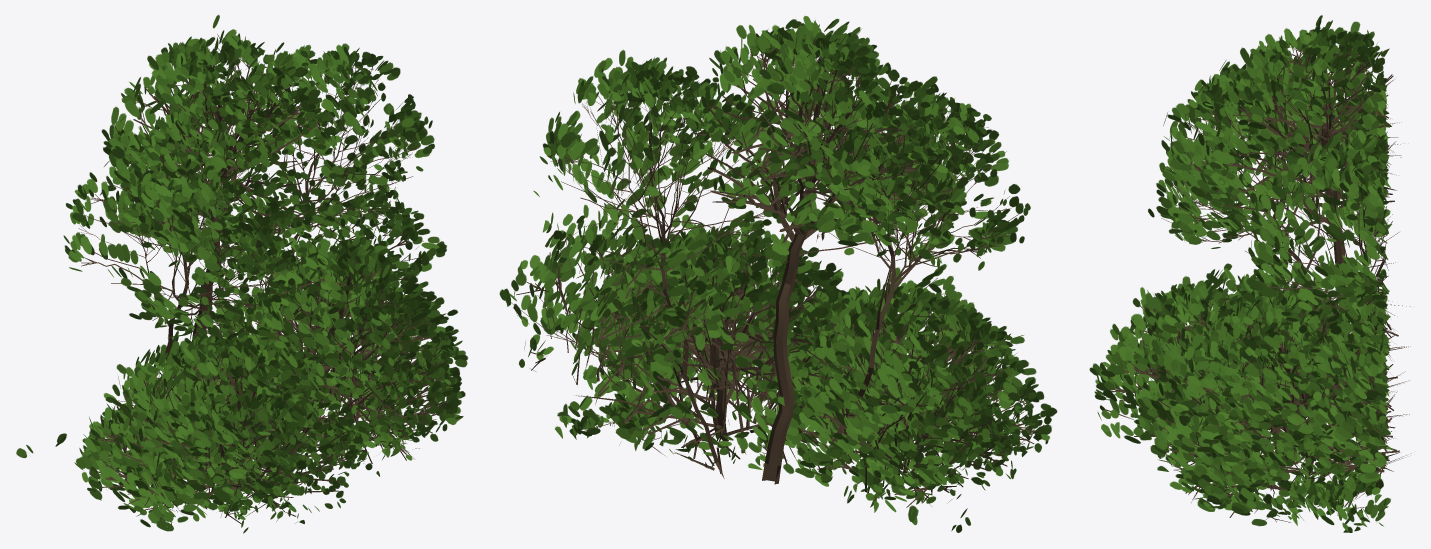
The picture shows the model from 3 angles, left to right: view 1: azimuth 30°, elevation 25°; view 2: azimuth 150°, elevation 25°; view 3: azimuth 270°, elevation 25°; orthographic projection. The views are drawn at different scales.
Visible parts, largest first — view 1: oak 01.001_trunk_Mat.001_0.474; view 2: oak 01.001_trunk_Mat.001_0.474; view 3: oak 01.001_trunk_Mat.001_0.474.
Part boxes in pixels (x1,y1,x2,y2): oak 01.001_trunk_Mat.001_0.474: [16, 14, 467, 533]; oak 01.001_trunk_Mat.001_0.474: [499, 16, 1057, 532]; oak 01.001_trunk_Mat.001_0.474: [1089, 15, 1411, 532].
Size of the model in its own units: 4.89 by 4.62 by 3.19.
Materials: 2 (1 with a texture image).
